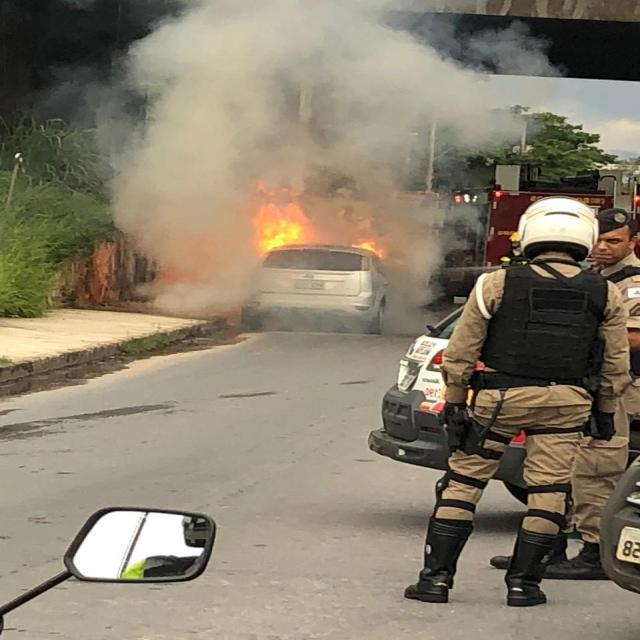Fire: (256, 198, 384, 261)
Smoke: (112, 0, 558, 191), (118, 196, 248, 311), (388, 198, 431, 334)
